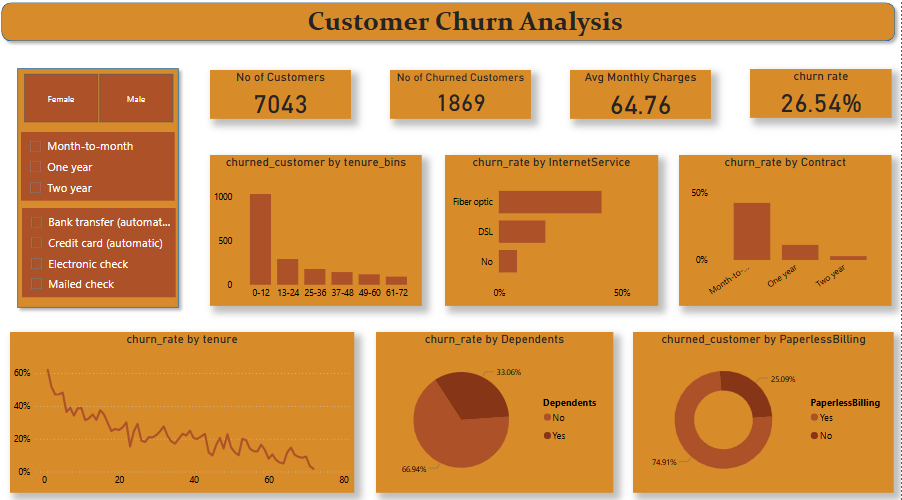

This screenshot's page, from the dashboard's own definition file:
{"tool":"powerbi","page":{"name":"Page 1","canvas":[1280,720],"ordinal":0},"visuals":[{"type":"shape","box":[0,0,1280,72.9],"z":0},{"type":"card","title":"No of Customers","fields":{"Values":["CountNonNull(churn_data.customerID)"]},"box":[303.5,104.5,199.1,69.2],"z":1000},{"type":"card","title":"No of Churned Customers","fields":{"Values":["churn_data.churned_customer"]},"box":[557.6,104.5,199.1,69.2],"z":2000},{"type":"card","title":"Avg Monthly Charges","fields":{"Values":["churn_data.Avg_monthly_charges"]},"box":[811.8,104.5,199.1,69.2],"z":3000},{"type":"columnChart","fields":{"Category":["churn_data.tenure"],"Y":["churn_data.churned_customer"]},"box":[303.5,224.5,299.3,213.2],"z":4000},{"type":"barChart","fields":{"Category":["churn_data.InternetService"],"Y":["churn_data.churn_rate"]},"box":[635.3,224.5,300.7,213.2],"z":5000},{"type":"shape","box":[22.6,93.2,245.6,355.8],"z":5500},{"type":"columnChart","fields":{"Category":["churn_data.Contract"],"Y":["churn_data.churn_rate"]},"box":[965.6,224.5,300,213.2],"z":6000},{"type":"pieChart","fields":{"Category":["churn_data.Dependents"],"Y":["churn_data.churn_rate"]},"box":[537.9,474.4,334.6,227.3],"z":7000},{"type":"card","title":"churn rate","fields":{"Values":["churn_data.churn_rate"]},"box":[1065.9,103.1,200.5,69.2],"z":8000},{"type":"donutChart","fields":{"Category":["churn_data.PaperlessBilling"],"Y":["churn_data.churned_customer"]},"box":[900.7,474.4,368.5,227],"z":9000},{"type":"lineChart","fields":{"Category":["churn_data.tenure"],"Y":["churn_data.churn_rate"]},"box":[21.4,474.3,485.7,227.1],"z":10000},{"type":"slicer","fields":{"Values":["churn_data.gender"]},"box":[15.9,103.7,259.8,81.9],"z":11000},{"type":"slicer","fields":{"Values":["churn_data.Contract"]},"box":[36.7,192,217.4,97.4],"z":12000},{"type":"slicer","fields":{"Values":["churn_data.PaymentMethod"]},"box":[38.1,299.3,217.4,125.6],"z":13000},{"type":"textbox","box":[435.7,7.1,505.7,60],"z":14000}]}

Visuals, with their boxes in screenshot pixels (x1, y1, x2, y2), scaled from the page's 1280x720 canvas onto the 902x500 screenshot:
shape: bbox(0, 0, 901, 51)
"No of Customers" card: bbox(214, 73, 354, 121)
"No of Churned Customers" card: bbox(393, 73, 533, 121)
"Avg Monthly Charges" card: bbox(572, 73, 712, 121)
columnChart - churn_data.tenure x churn_data.churned_customer: bbox(214, 156, 425, 304)
barChart - churn_data.InternetService x churn_data.churn_rate: bbox(448, 156, 660, 304)
shape: bbox(16, 65, 189, 312)
columnChart - churn_data.Contract x churn_data.churn_rate: bbox(680, 156, 892, 304)
pieChart - churn_data.Dependents x churn_data.churn_rate: bbox(379, 329, 615, 487)
"churn rate" card: bbox(751, 72, 892, 120)
donutChart - churn_data.PaperlessBilling x churn_data.churned_customer: bbox(635, 329, 894, 487)
lineChart - churn_data.tenure x churn_data.churn_rate: bbox(15, 329, 357, 487)
slicer - churn_data.gender: bbox(11, 72, 194, 129)
slicer - churn_data.Contract: bbox(26, 133, 179, 201)
slicer - churn_data.PaymentMethod: bbox(27, 208, 180, 295)
textbox: bbox(307, 5, 663, 47)
